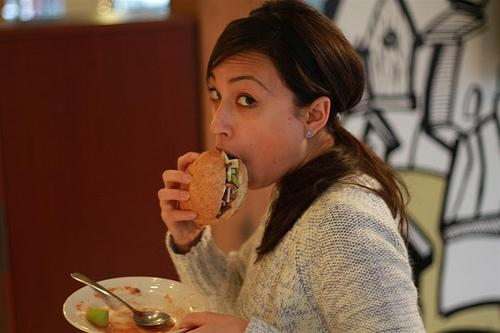lettuce: (231, 174, 240, 187)
onion: (225, 182, 239, 190), (224, 154, 228, 160)
